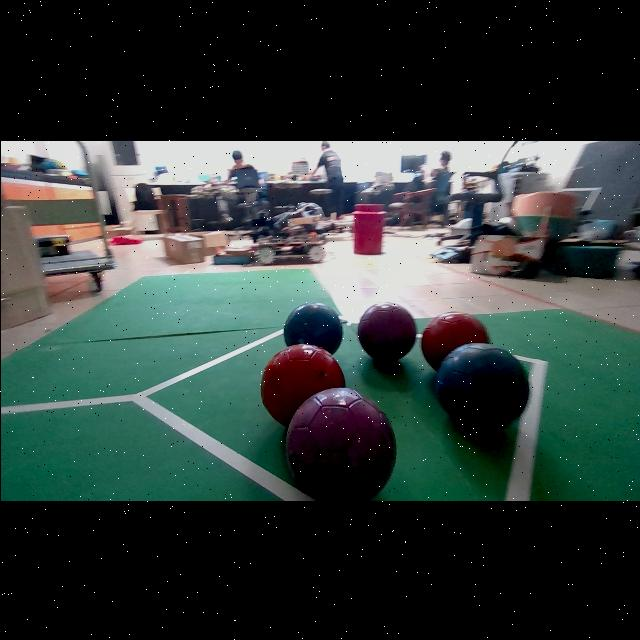B: (434, 343, 529, 429), (283, 301, 341, 353)
P: (285, 387, 395, 500), (356, 301, 415, 362)
R: (259, 343, 344, 425), (420, 311, 488, 369)
